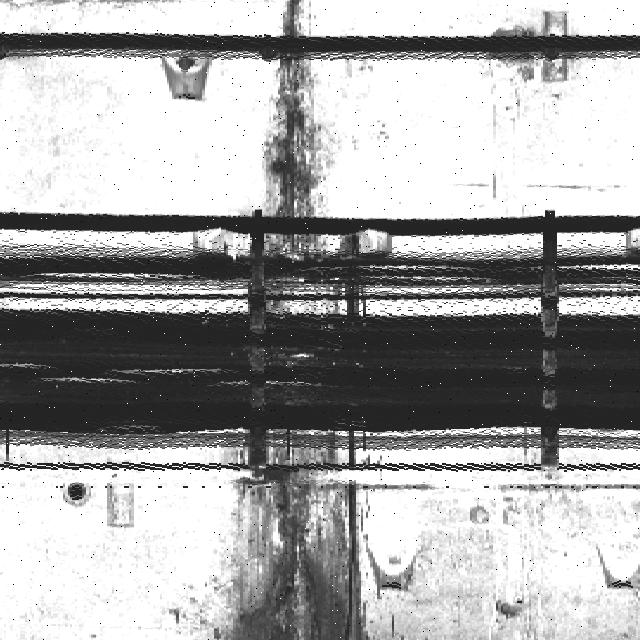leakage: (202, 434, 382, 640), (251, 1, 333, 312)
